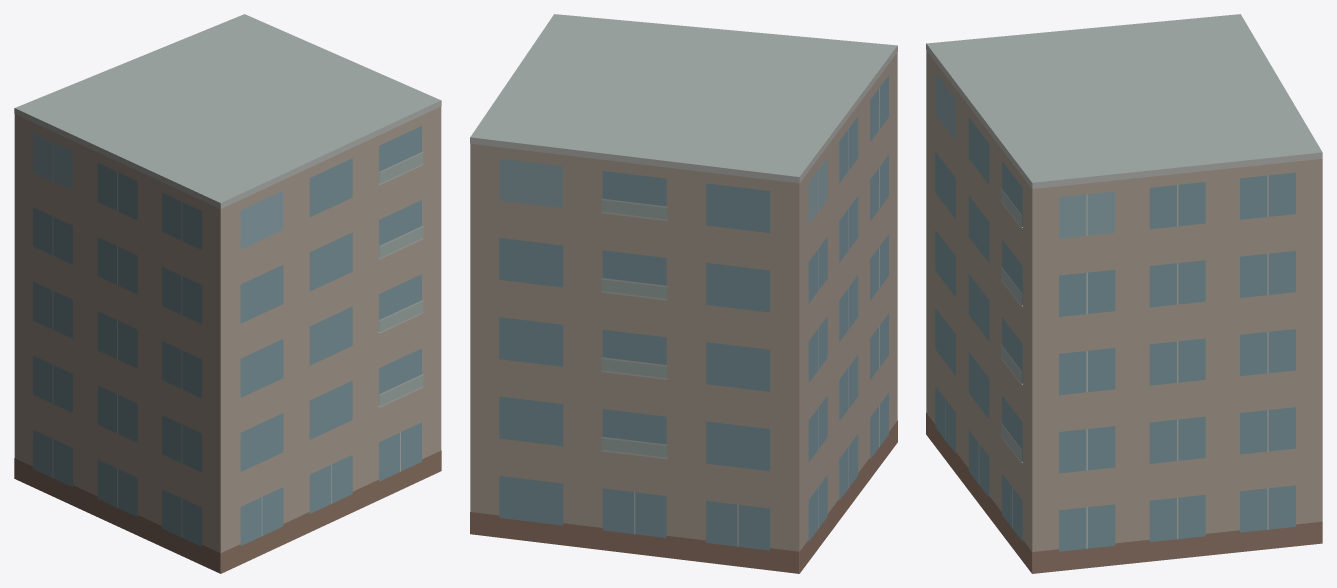
The model's file is survey-upis-32683422.glb.
3 renders of one model, left to right at view 1: azimuth 30°, elevation 25°; view 2: azimuth 150°, elevation 25°; view 3: azimuth 270°, elevation 25°, orthographic. The views are drawn at different scales.
Visible parts, largest first — view 1: survey-upis-32683422.tmp; view 2: survey-upis-32683422.tmp; view 3: survey-upis-32683422.tmp.
Boxes of the visible parts, x1,y1,x2,y2 form: survey-upis-32683422.tmp: (14, 14, 441, 573); survey-upis-32683422.tmp: (470, 14, 897, 573); survey-upis-32683422.tmp: (926, 14, 1322, 573).
Size of the model in its own units: 14.04 by 15.15 by 13.93.
